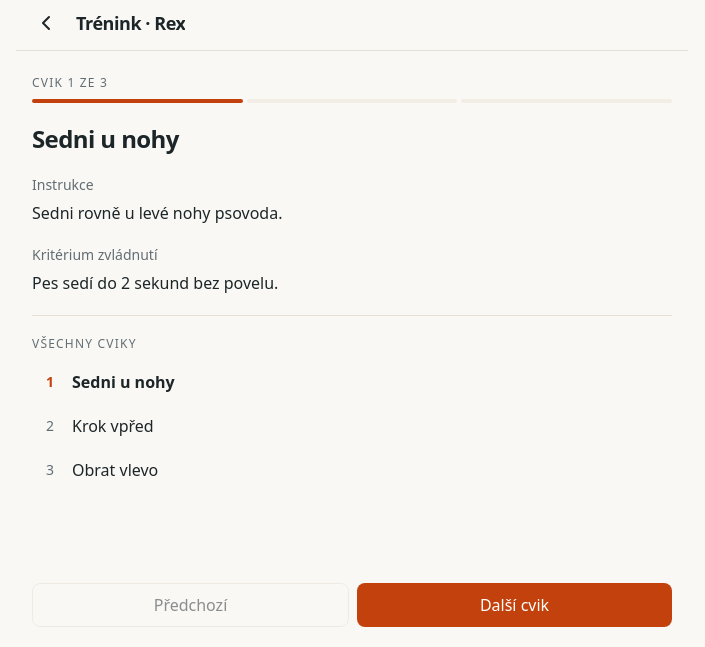
TrainingWalkthrough › navigates through exercises using 'Další cvik' and 'Předchozí'
# Step to exercise 2
Click the button "Další cvik" at (514,605), box [357,583,672,627]
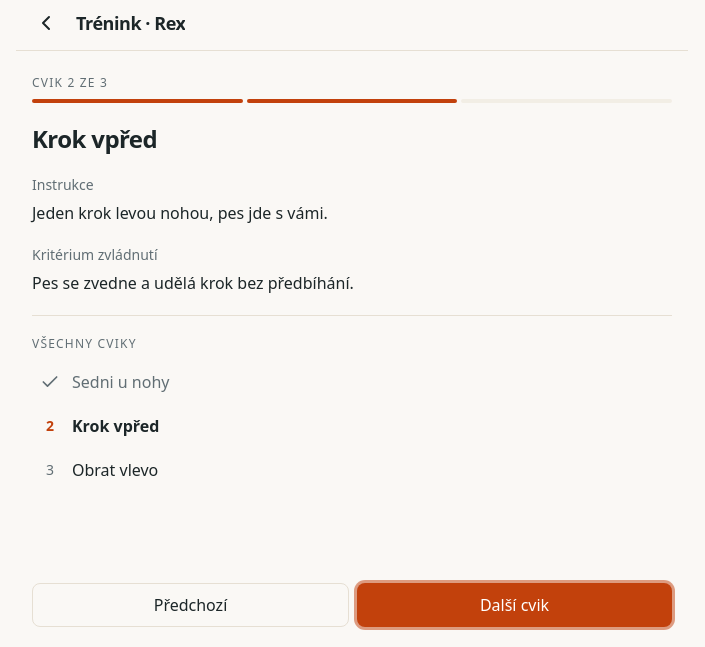
Result: the text "CVIK 2 ZE 3" is shown at [32,74,108,91]
Result: the heading "Krok vpřed" is shown at [32,122,157,155]
Result: the text "Jeden krok levou nohou, pes jde s vámi." is shown at [32,202,328,224]
# Step back to exercise 1
Click the button "Předchozí" at (190,605), box [32,583,349,627]
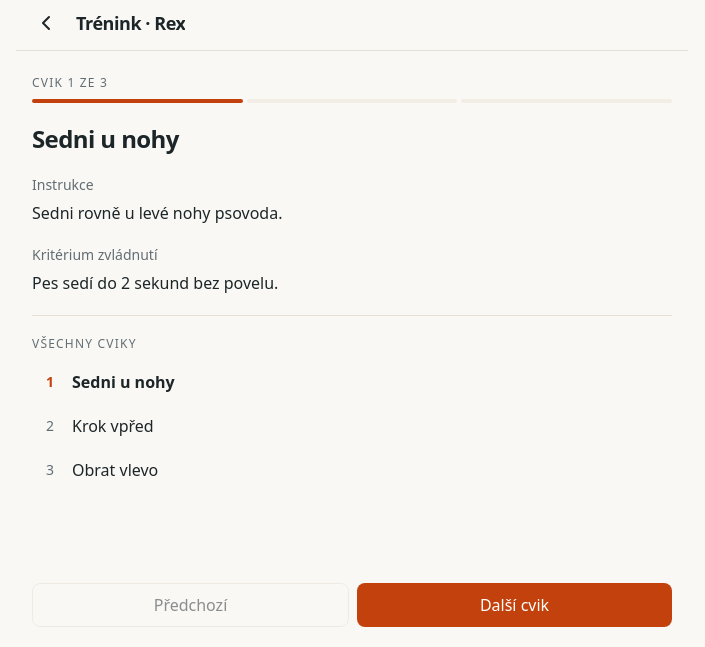
Result: the text "CVIK 1 ZE 3" is shown at [32,74,108,91]
Result: the heading "Sedni u nohy" is shown at [32,122,179,155]
Result: the button "Předchozí" is disabled at [32,583,349,627]
